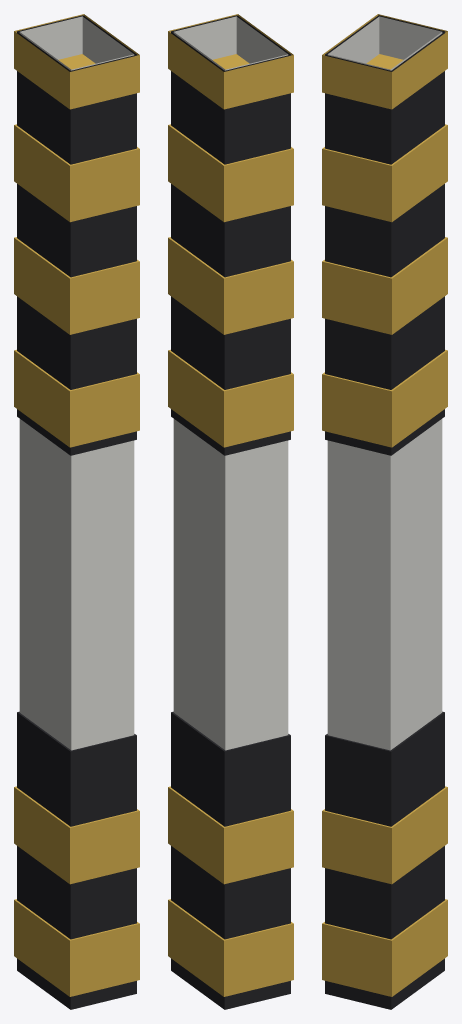
The model's file is section-13.obj.
3 renders of one model, left to right at view 1: azimuth 30°, elevation 25°; view 2: azimuth 210°, elevation 25°; view 3: azimuth 330°, elevation 25°, orthographic.
Bounding box in the file's own units: 0.078 × 1 × 0.108.
1 material, 1 textured.
